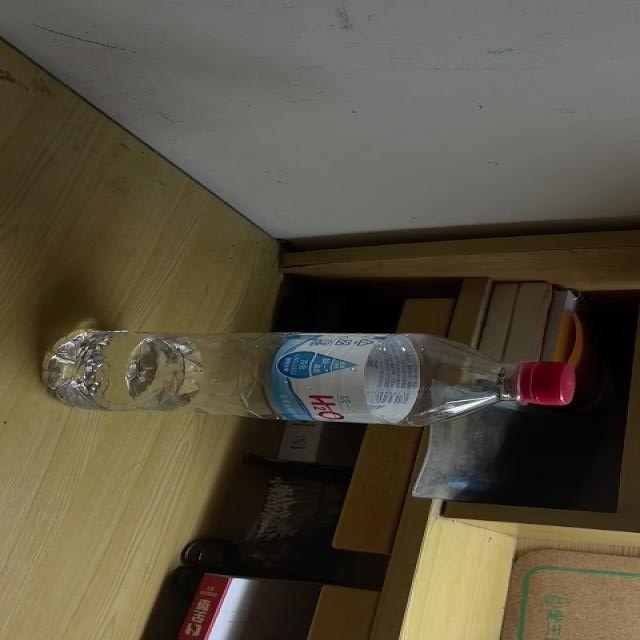Water: (41, 330, 576, 427)
